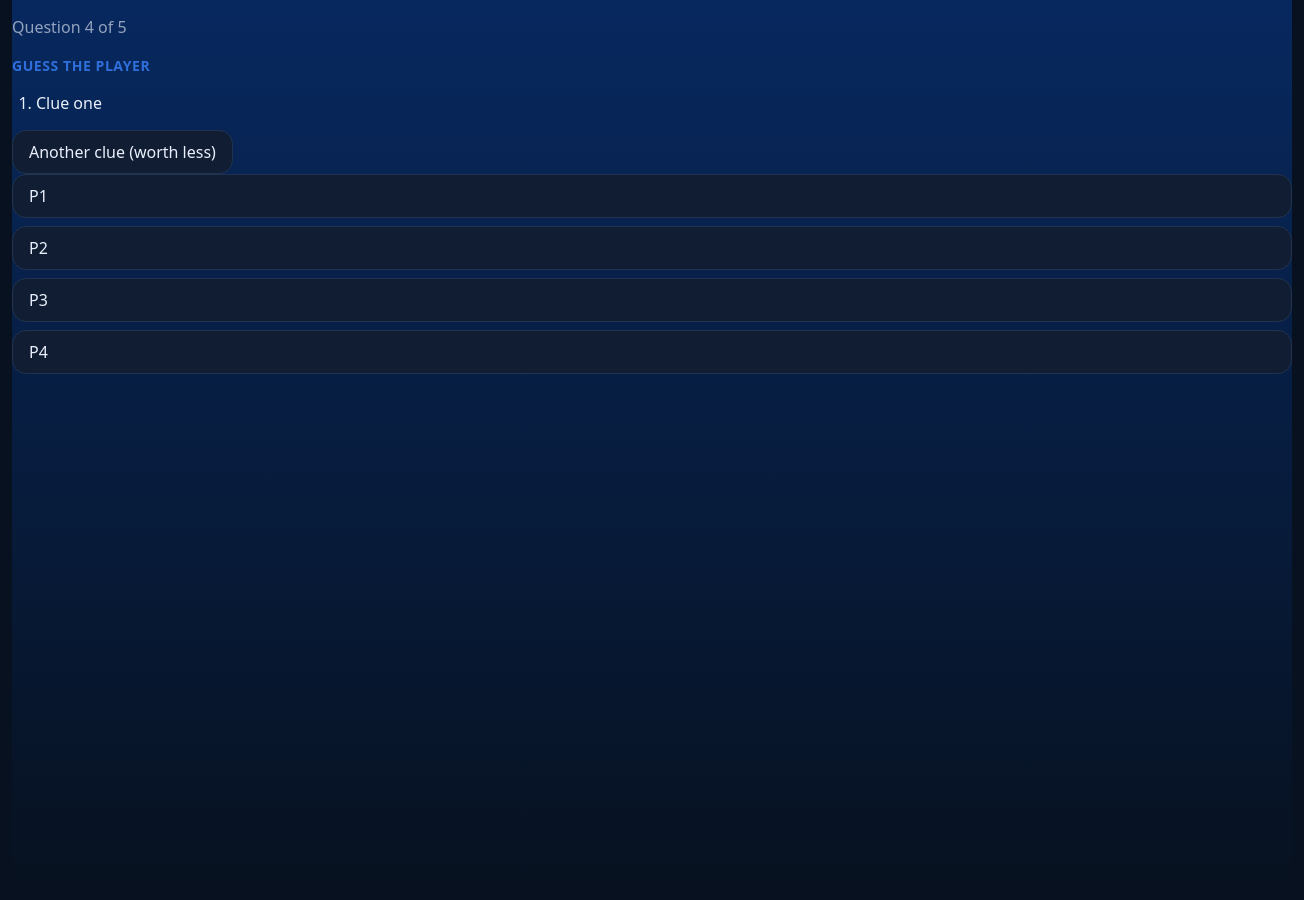
Test: Challenge › guess_player_shows_one_clue_at_a_time
Expected: the list item "Clue one" is shown, left=36, top=92, right=102, bottom=114
Expected: the text "Clue two" is not shown
Click the button "Another clue (worth less)". click: coordinates (122, 152)
box: left=12, top=130, right=233, bottom=174
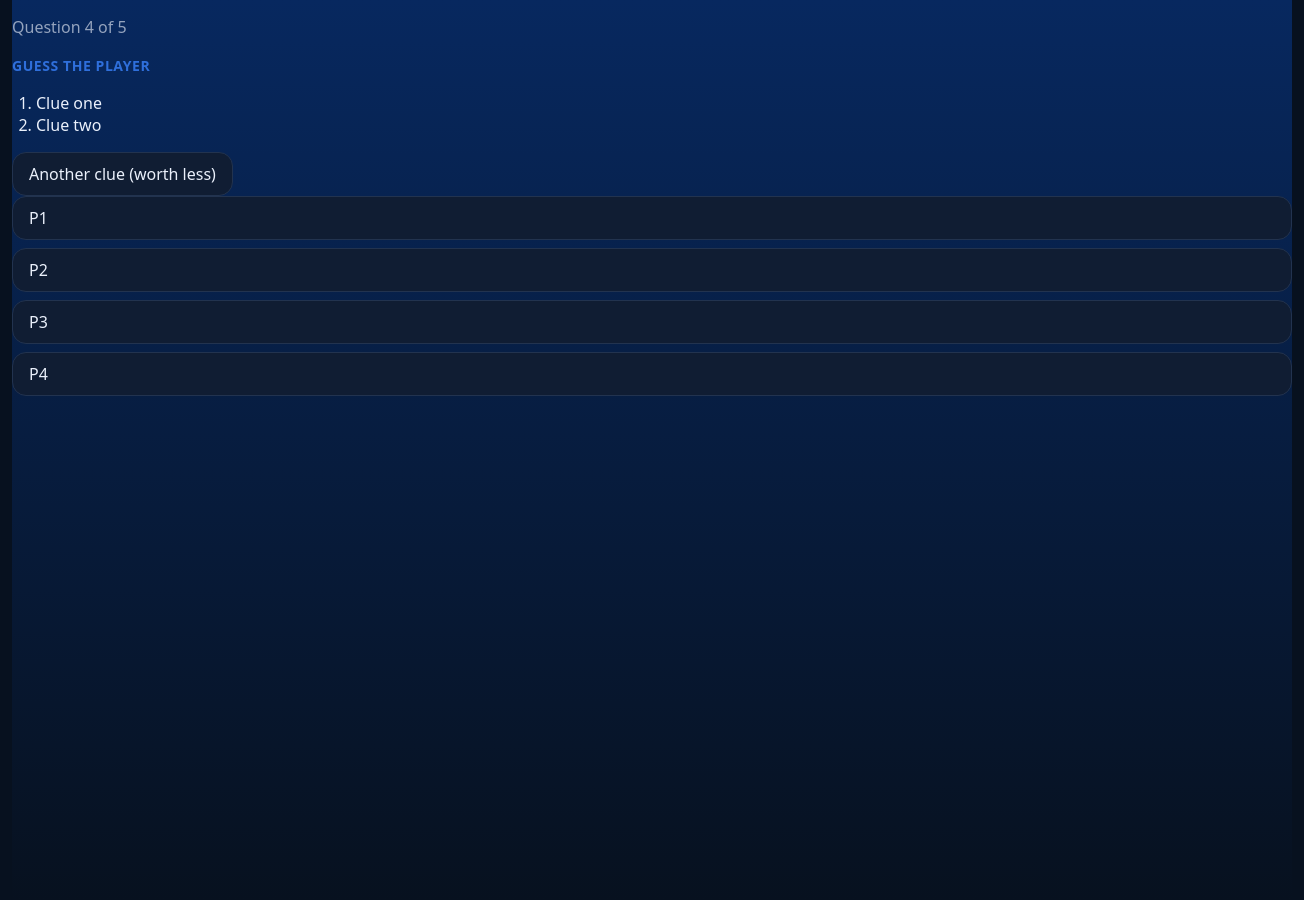
Expected: the list item "Clue two" is shown, left=36, top=114, right=101, bottom=136
